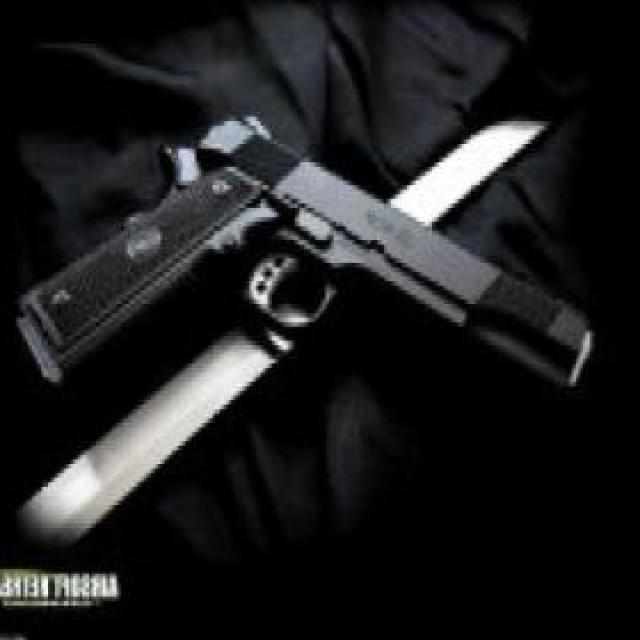pistol: (10, 107, 617, 399)
